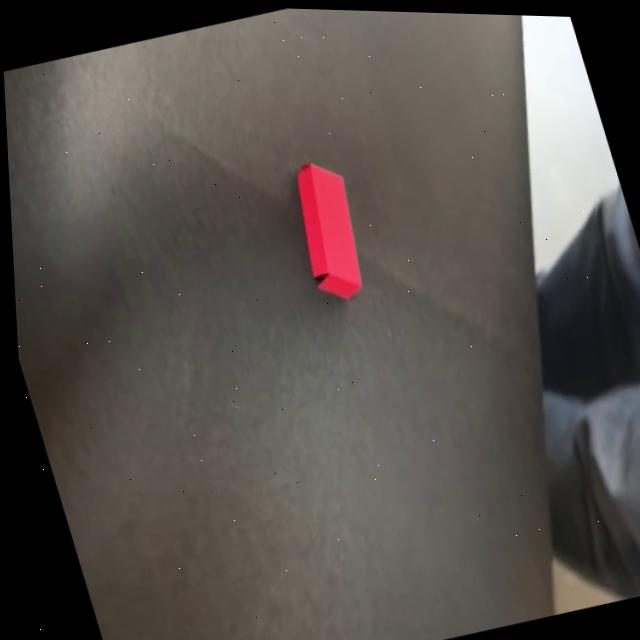red block: (279, 153, 379, 305)
